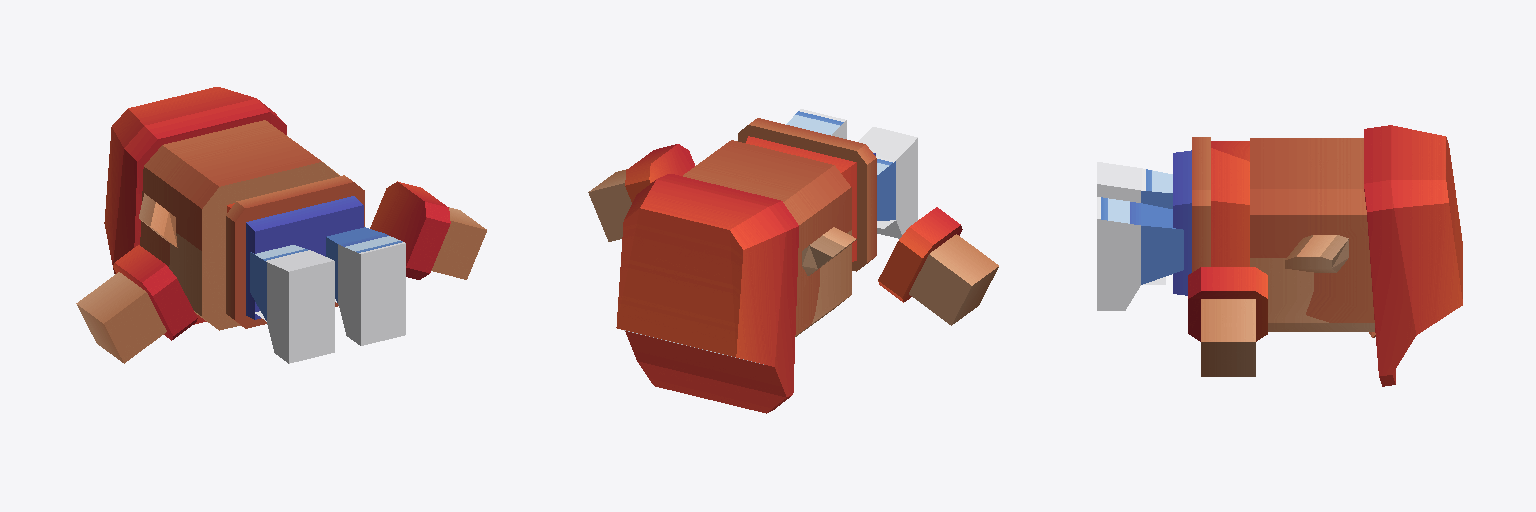
3 renders of one model, left to right at view 1: azimuth 30°, elevation 25°; view 2: azimuth 150°, elevation 25°; view 3: azimuth 270°, elevation 25°, orthographic.
Visible parts, largest first — view 1: 1head, 2body, 5leftleg, 3lefthand, 6rightleg, 4righthand; view 2: 1head, 3lefthand, 2body, 5leftleg, 4righthand, 6rightleg; view 3: 1head, 2body, 4righthand, 6rightleg, 5leftleg, 3lefthand.
Part boxes in pixels (left/top/right/bottom): 1head: left=104, top=87, right=339, bottom=330; 2body: left=226, top=175, right=364, bottom=328; 5leftleg: left=250, top=245, right=334, bottom=363; 3lefthand: left=76, top=245, right=197, bottom=363; 6rightleg: left=326, top=227, right=405, bottom=345; 4righthand: left=370, top=181, right=486, bottom=279; 1head: left=616, top=140, right=856, bottom=413; 3lefthand: left=878, top=207, right=998, bottom=325; 2body: left=738, top=118, right=876, bottom=271; 5leftleg: left=858, top=127, right=917, bottom=238; 4righthand: left=588, top=144, right=694, bottom=241; 6rightleg: left=786, top=109, right=846, bottom=138; 1head: left=1250, top=125, right=1462, bottom=386; 2body: left=1173, top=137, right=1249, bottom=295; 4righthand: left=1188, top=267, right=1267, bottom=376; 6rightleg: left=1097, top=197, right=1183, bottom=310; 5leftleg: left=1097, top=162, right=1172, bottom=208; 3lefthand: left=1211, top=141, right=1249, bottom=161.
Size of the model in its own units: 0.8939 by 0.4607 by 0.7395.
Materials: 6 (1 with a texture image).